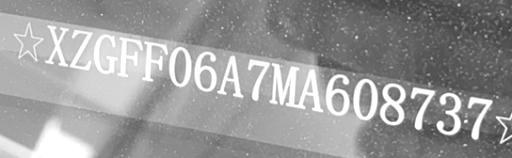letter: (268, 59, 300, 107), (378, 79, 406, 126), (408, 83, 436, 130), (296, 67, 324, 113), (466, 93, 492, 142), (435, 91, 463, 136), (324, 71, 352, 115), (217, 53, 245, 97), (116, 34, 142, 80), (352, 75, 378, 120), (92, 31, 118, 76), (246, 55, 270, 103), (142, 38, 168, 82), (167, 44, 193, 88), (193, 49, 219, 93), (45, 24, 69, 67), (69, 28, 93, 71)
